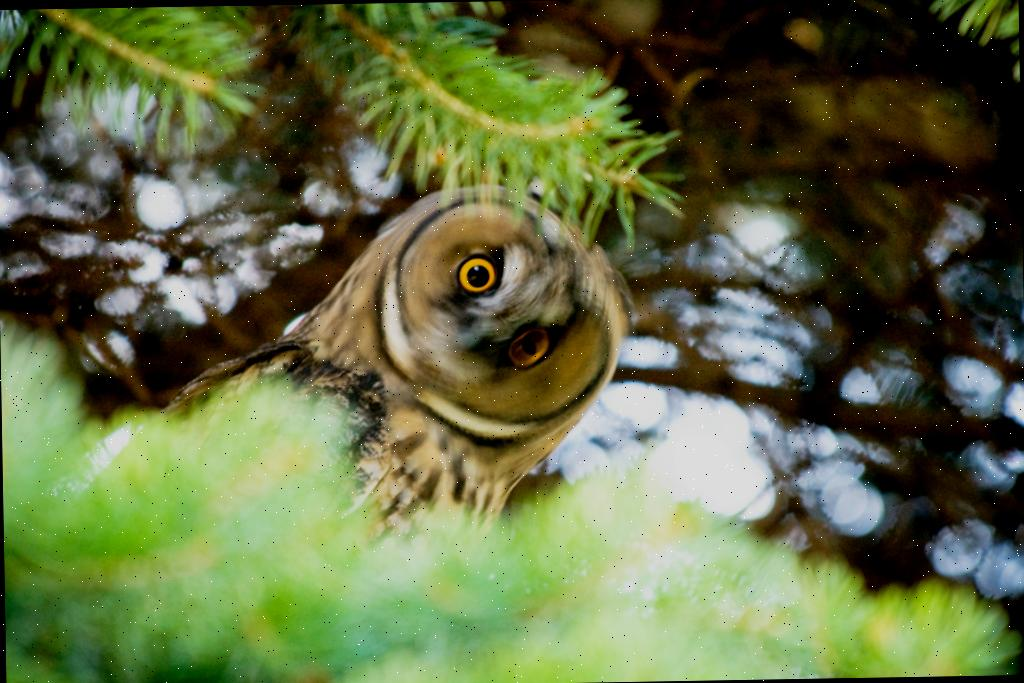Owl: (28, 165, 648, 609)
